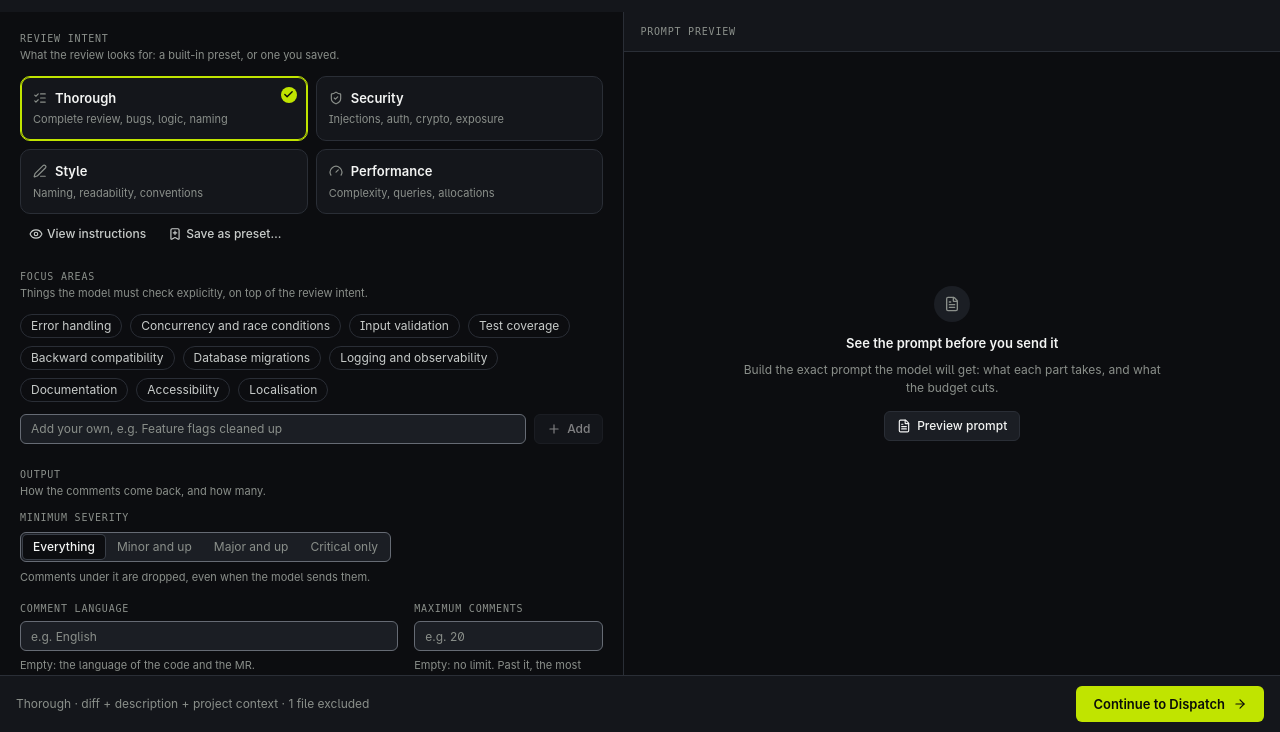
BriefStage — editing › labels its fields and reports toggle state to assistive technology
This screenshot has width=1280, height=732.
Expected: the radio button labelled "Thorough Complete review, bugs, logic, naming" is shown, [20, 76, 308, 141]
Click the radio button labelled "Security Injections, auth, crypto, exposure" at (460, 108), box [316, 76, 603, 141]
(page scrolled)
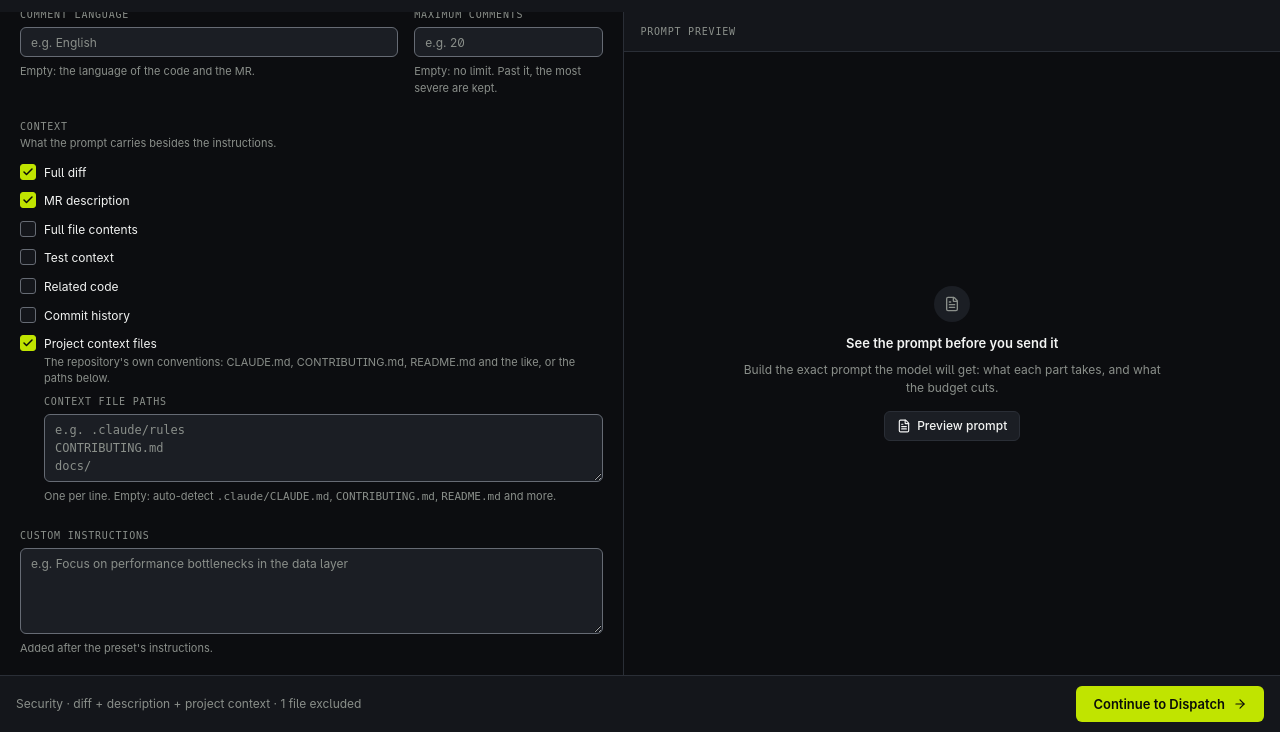
Click the checkbox labelled "Project context files" at (28, 343), box [20, 335, 36, 351]
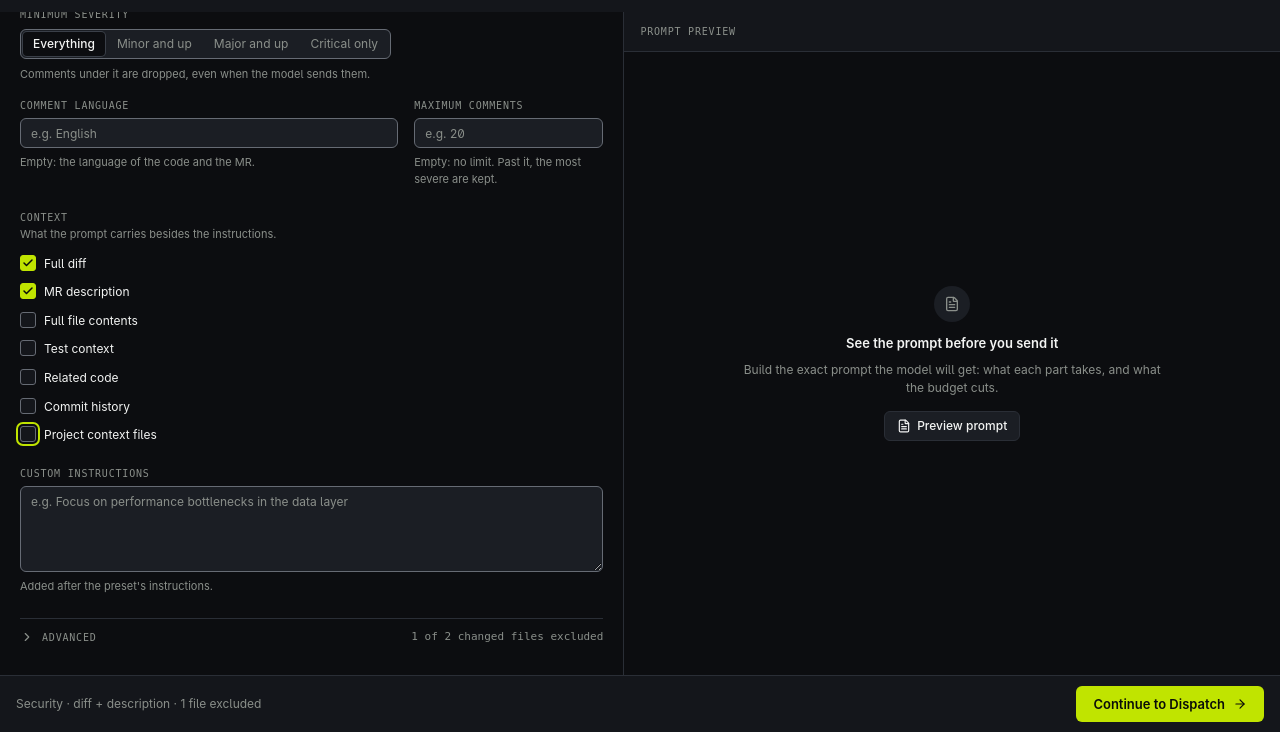
Expected: the checkbox labelled "Project context files" is not checked, [20, 426, 36, 442]
Expected: the label labelled "Context file paths" is gone
